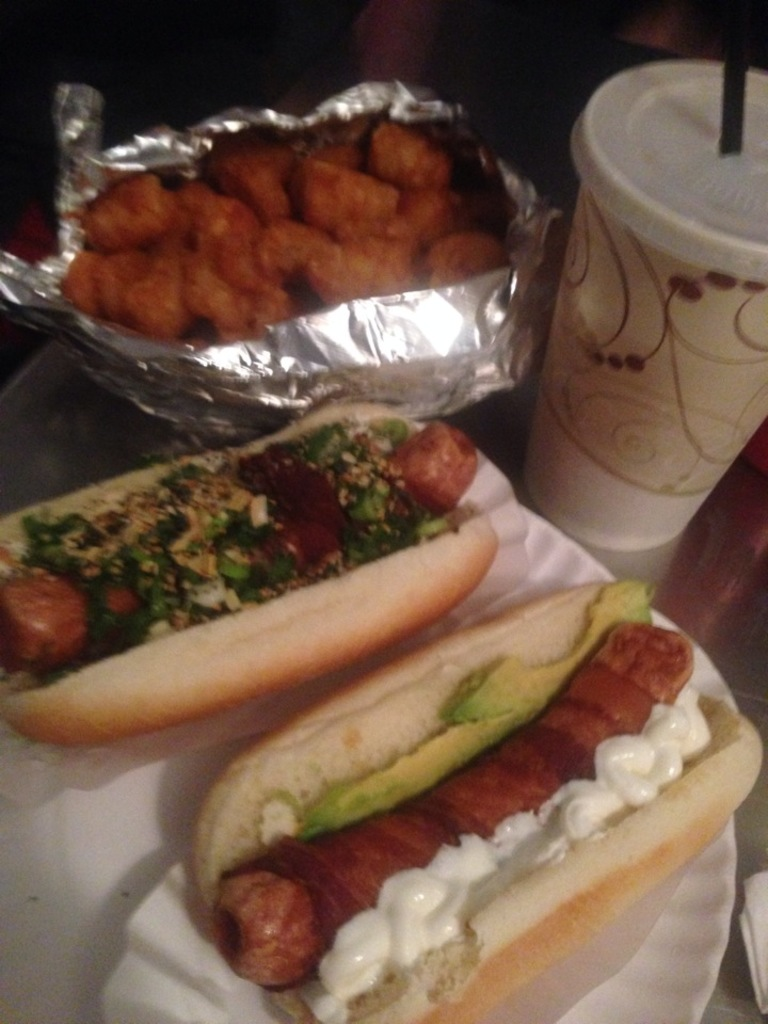hot_dog: (189, 576, 767, 1023), (0, 415, 500, 753)
